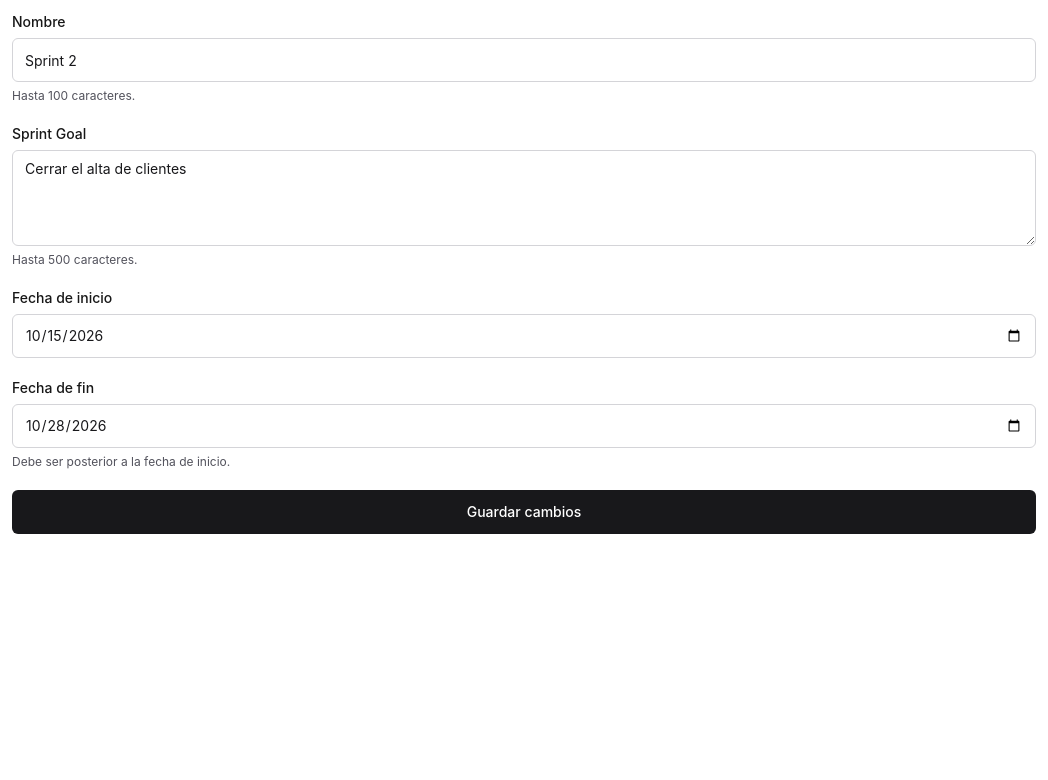
004/US7 - Corregir o descartar un sprint planificado › Mover fechas
The image size is (1048, 780).
Expected: the button "Guardar cambios" is shown, [12,490,1036,534]
Type "2026-11-02" into the date field labelled "Fecha de inicio" at (524, 336), box [12,314,1036,358]
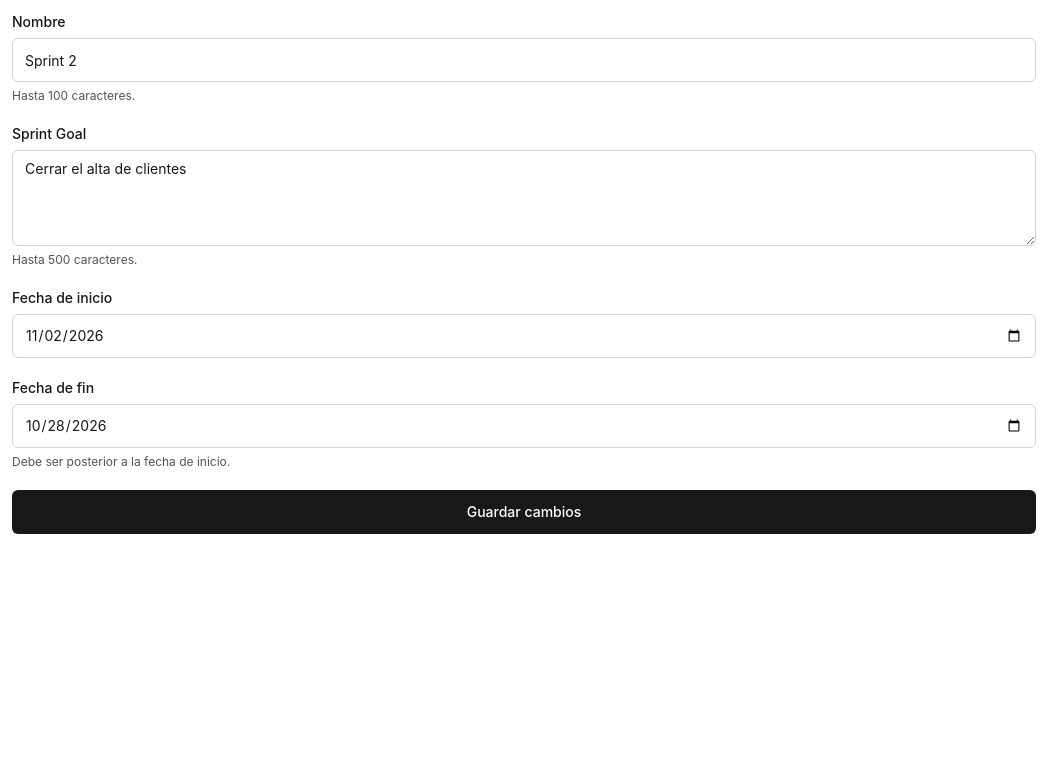
Type "2026-11-15" into the date field labelled "Fecha de fin" at (524, 426), box [12,404,1036,448]
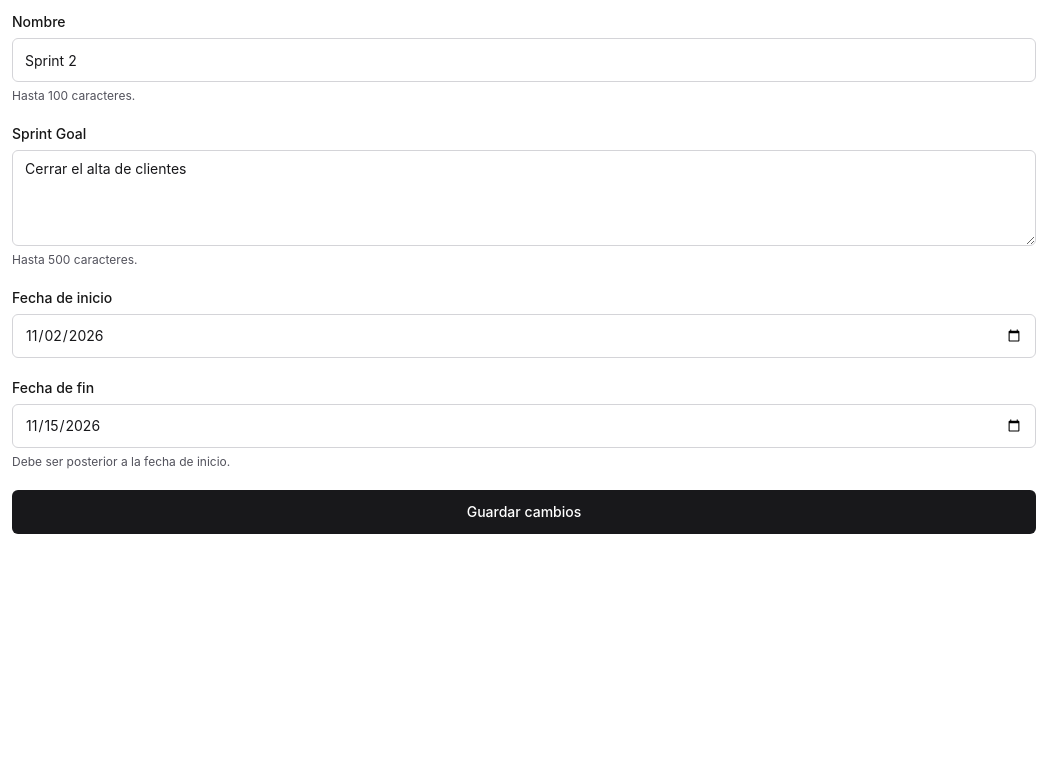
Click the button "Guardar cambios" at (524, 512), box [12,490,1036,534]
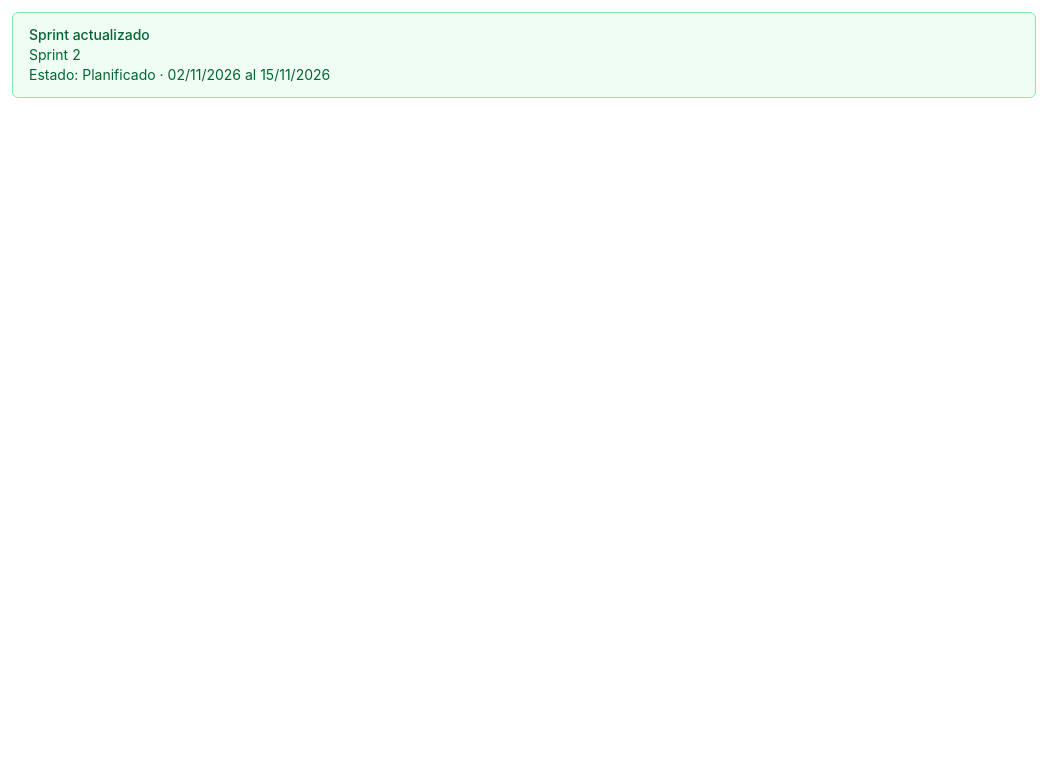
Expected: the text "Sprint actualizado" is shown, [29,26,150,43]
Expected: the text "Sprint actualizado" shows "02/11/2026", [168,66,241,83]
Expected: the text "Sprint actualizado" shows "15/11/2026", [260,66,330,83]
